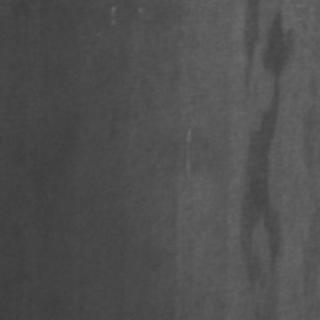inclusion: (221, 1, 291, 316)
